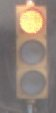Red: (8, 5, 51, 110)
